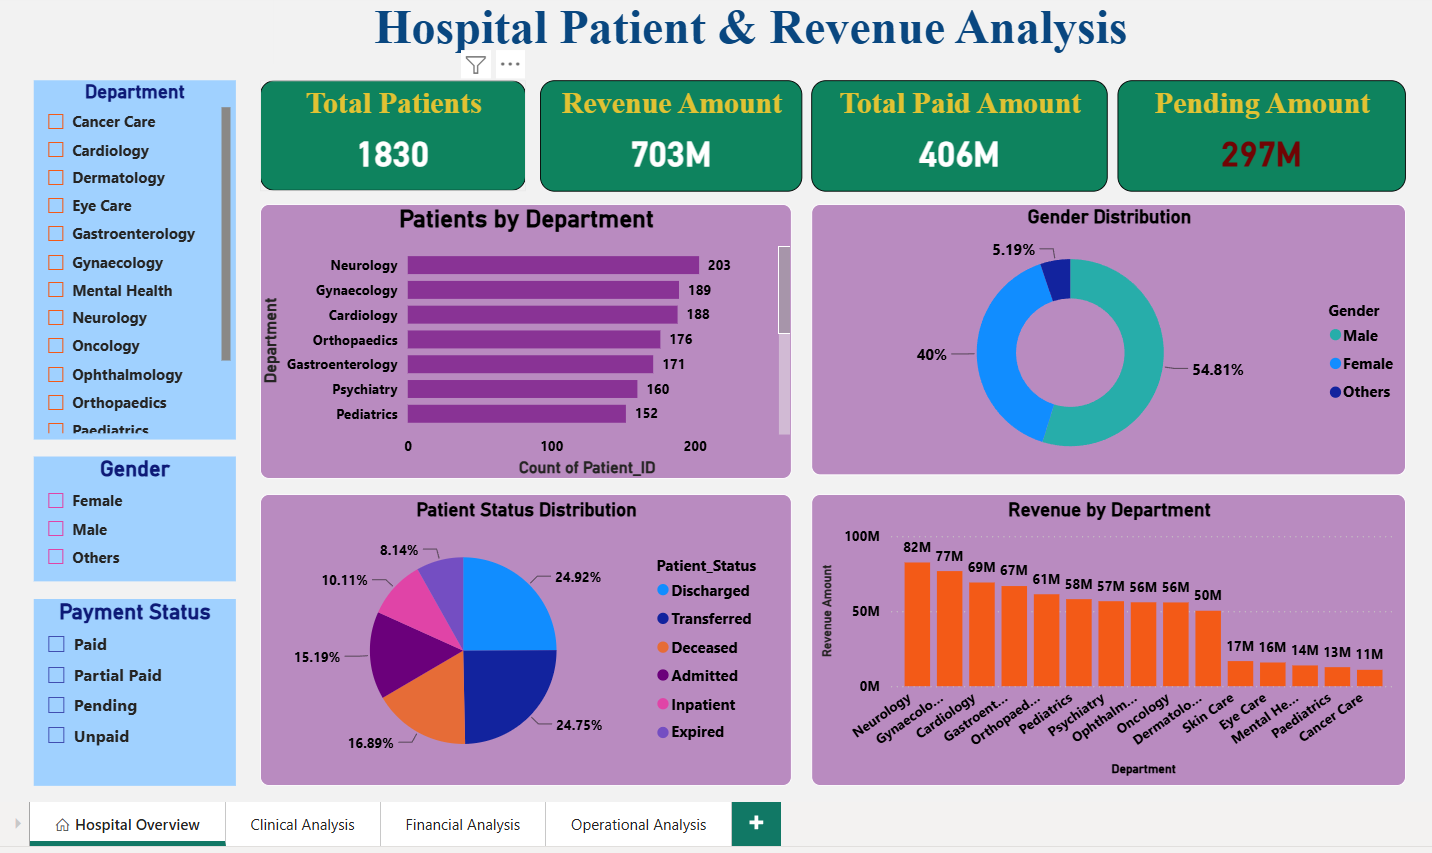

The page's visual inventory and layout, read from the dashboard file:
{"tool":"powerbi","page":{"name":"Hospital Overview","canvas":[1280,720],"ordinal":0},"visuals":[{"type":"clusteredColumnChart","title":"Revenue by Department","fields":{"Category":["Raw_Patient_Data.Department"],"Y":["Raw_Patient_Data.Revenue Amount"]},"box":[722.5,445.1,529.7,260.2],"z":0},{"type":"slicer","title":"Department","fields":{"Values":["Raw_Patient_Data.Department"]},"box":[29.8,76.8,180.2,319.7],"z":1000},{"type":"slicer","title":"Gender","fields":{"Values":["Raw_Patient_Data.Gender"]},"box":[29.8,412.2,180.2,111.3],"z":2000},{"type":"slicer","title":"Payment Status","fields":{"Values":["Raw_Patient_Data.Payment_Status"]},"box":[29.8,539.1,180.2,166.1],"z":3000},{"type":"clusteredBarChart","title":"Patients by Department","fields":{"Category":["Raw_Patient_Data.Department"],"Y":["CountNonNull(Raw_Patient_Data.Patient_ID)"]},"box":[232,186.5,473.3,244.5],"z":4000},{"type":"donutChart","title":"Gender Distribution","fields":{"Category":["Raw_Patient_Data.Gender"],"Y":["CountNonNull(Raw_Patient_Data.Patient_ID)"]},"box":[722.5,186.5,529.7,241.4],"z":5000},{"type":"pieChart","title":"Patient Status Distribution","fields":{"Category":["Raw_Patient_Data.Patient_Status"],"Y":["CountNonNull(Raw_Patient_Data.Patient_ID)"]},"box":[232,445.1,473.3,260.2],"z":6000},{"type":"textbox","box":[243.3,0,849.9,62.4],"z":7000},{"type":"card","title":"Total Paid Amount","fields":{"Values":["Raw_Patient_Data.Total Paid Amount"]},"box":[722.7,77,264.1,99],"z":8000},{"type":"card","title":"Pending Amount","fields":{"Values":["Raw_Patient_Data.Pending Amount"]},"box":[995.4,77,256.8,99],"z":9000},{"type":"card","title":"Revenue Amount","fields":{"Values":["Raw_Patient_Data.Revenue Amount"]},"box":[480.6,77,233.6,99],"z":10000},{"type":"card","title":"Total Patients","fields":{"Values":["Raw_Patient_Data.Total Patients"]},"box":[232,76.8,236.7,98.7],"z":11000}]}

Visuals, with their boxes on the page's 1280x720 design canvas (x1, y1, x2, y2). These are canvas units, not pixel positions in the 1432x853 screenshot, which may show the page scaled, cropped or inside an application window:
"Revenue by Department" clusteredColumnChart: l=722, t=445, r=1252, b=705
"Department" slicer: l=30, t=77, r=210, b=396
"Gender" slicer: l=30, t=412, r=210, b=524
"Payment Status" slicer: l=30, t=539, r=210, b=705
"Patients by Department" clusteredBarChart: l=232, t=186, r=705, b=431
"Gender Distribution" donutChart: l=722, t=186, r=1252, b=428
"Patient Status Distribution" pieChart: l=232, t=445, r=705, b=705
textbox: l=243, t=0, r=1093, b=62
"Total Paid Amount" card: l=723, t=77, r=987, b=176
"Pending Amount" card: l=995, t=77, r=1252, b=176
"Revenue Amount" card: l=481, t=77, r=714, b=176
"Total Patients" card: l=232, t=77, r=469, b=176
